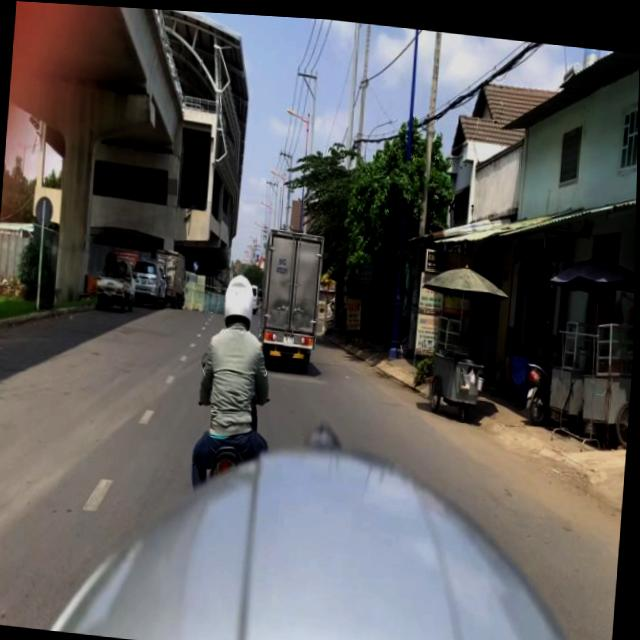Vong chuong ngai vat sang phai: (193, 257, 202, 270)
